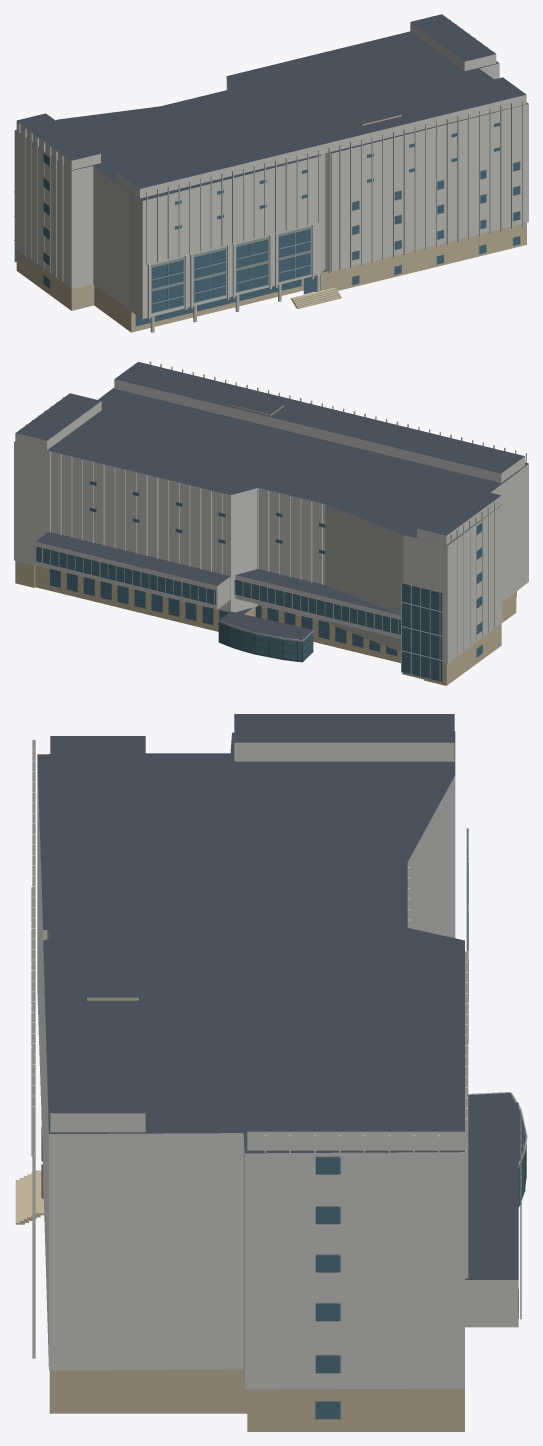
The model's file is social-history.glb.
The picture shows the model from 3 angles, top to bottom: view 1: azimuth 30°, elevation 25°; view 2: azimuth 150°, elevation 25°; view 3: azimuth 270°, elevation 25°; orthographic projection. The views are drawn at different scales.
Visible parts, largest first — view 1: social-history; view 2: social-history; view 3: social-history.
Part boxes in pixels (<box>): social-history: <box>14,14,528,332</box>; social-history: <box>14,361,528,685</box>; social-history: <box>15,714,527,1431</box>.
Size of the model in its own units: 76.54 by 25.65 by 39.22.
